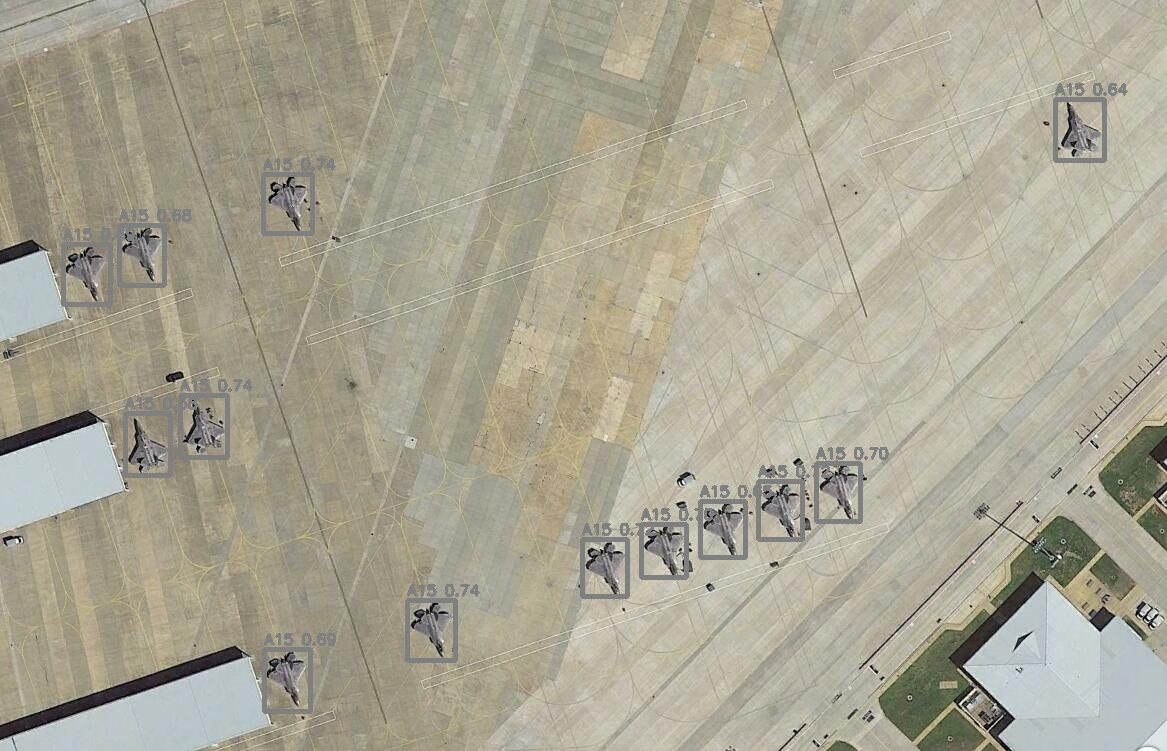A15: (1055, 99, 1104, 160), (180, 395, 227, 457), (263, 174, 312, 233), (407, 600, 455, 660), (264, 649, 310, 711), (63, 244, 110, 304), (125, 413, 170, 475), (119, 225, 164, 285), (582, 539, 627, 596), (758, 481, 802, 539), (816, 463, 860, 521), (700, 501, 745, 557), (641, 524, 686, 577)
